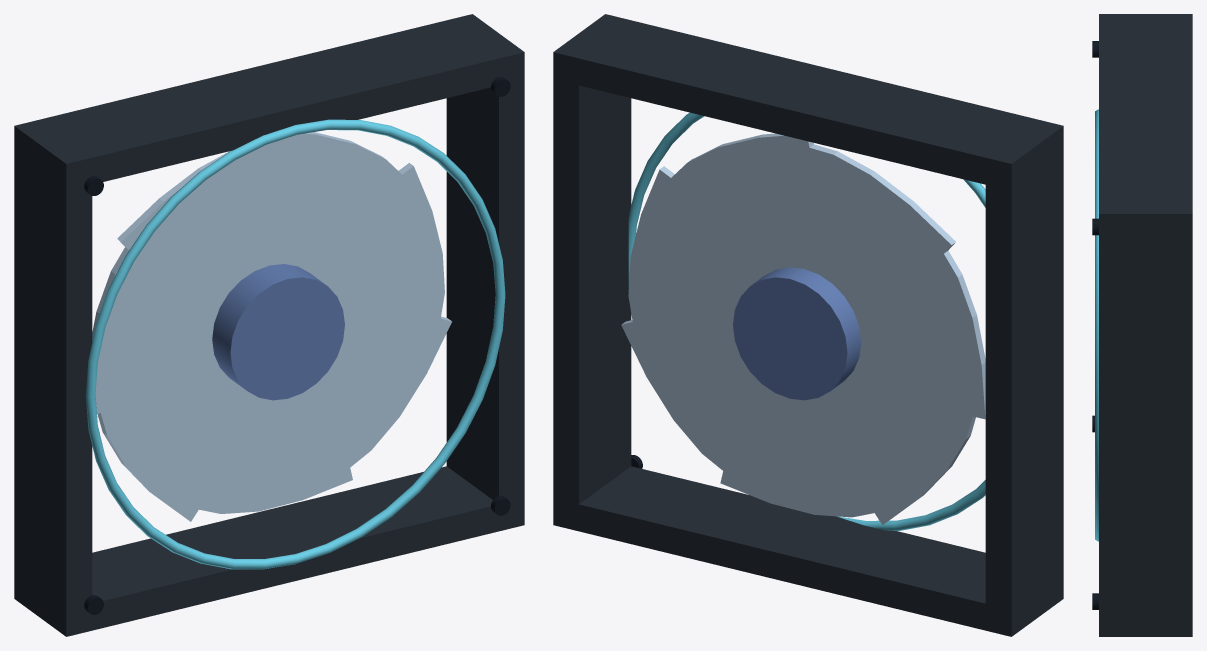
File: retail-lian-li-uni-fan-tl-140-lcd-reverse-blade-wireless-black.glb
3 views of the same model, side by side, from view 1: azimuth 30°, elevation 25°; view 2: azimuth 150°, elevation 25°; view 3: azimuth 270°, elevation 25° (orthographic). The views are drawn at different scales.
Parts seen in each view (by area): view 1: Frame edge (×4), Blade (×7), Intake rim, Motor hub; view 2: Frame edge (×4), Blade (×7), Motor hub, Intake rim; view 3: Frame edge (×3), Intake rim.
Part boxes in pixels (<box>): Frame edge (×4): <box>14,14,524,636</box>; Blade (×7): <box>92,132,451,521</box>; Intake rim: <box>85,119,505,569</box>; Motor hub: <box>212,264,344,400</box>; Frame edge (×4): <box>553,14,1063,636</box>; Blade (×7): <box>621,133,985,525</box>; Motor hub: <box>733,267,861,400</box>; Intake rim: <box>628,112,985,530</box>; Frame edge (×3): <box>1099,14,1192,636</box>; Intake rim: <box>1095,109,1098,541</box>.
Size of the model in its own units: 0.142 by 0.14 by 0.03.
